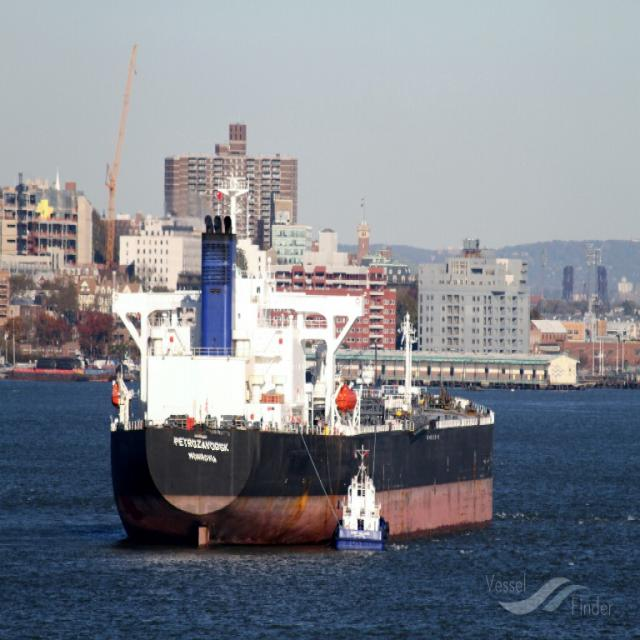OCR: (169, 425, 230, 464)
